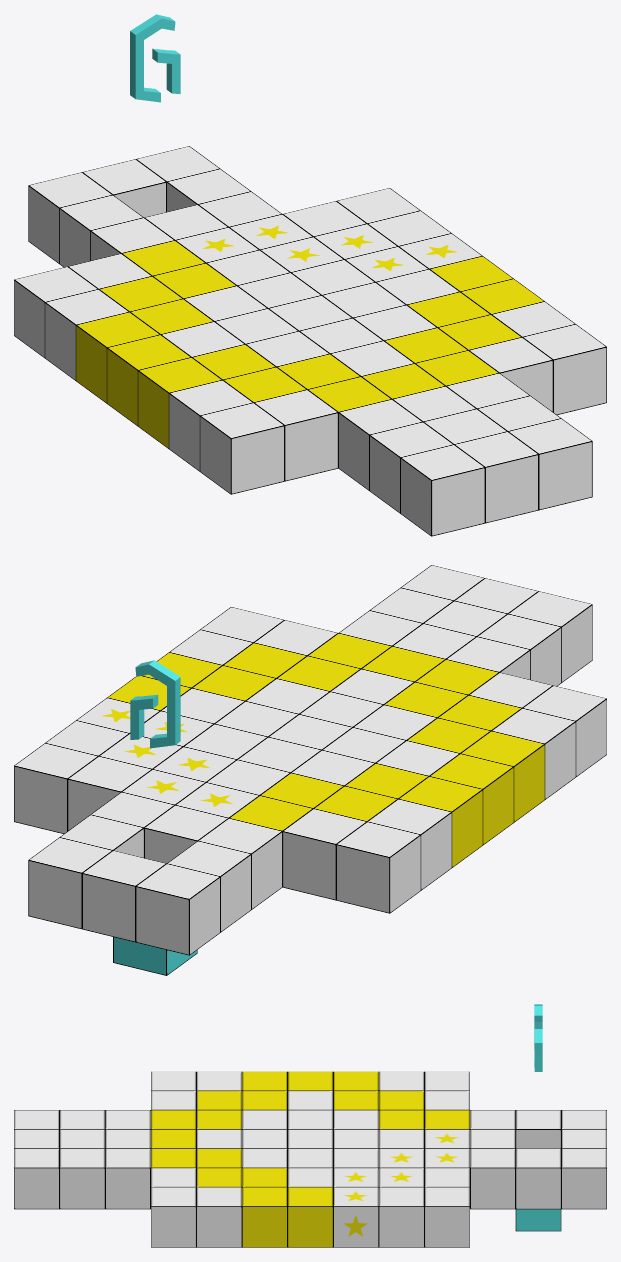
Rendered from stage04.fbx.
3 views of the same model, one above another, from view 1: azimuth 30°, elevation 25°; view 2: azimuth 150°, elevation 25°; view 3: azimuth 270°, elevation 25° (orthographic). The views are drawn at different scales.
Parts seen in each view (by area): view 1: polySurface62; view 2: polySurface62; view 3: polySurface62.
Boxes of the visible parts, bbox=[...] form: polySurface62: bbox=[14, 14, 606, 536]; polySurface62: bbox=[14, 565, 606, 975]; polySurface62: bbox=[14, 1004, 606, 1247].
Bounding box in the file's own units: 7 × 5.25 × 13.
Materials: 5 (5 with a texture image).
